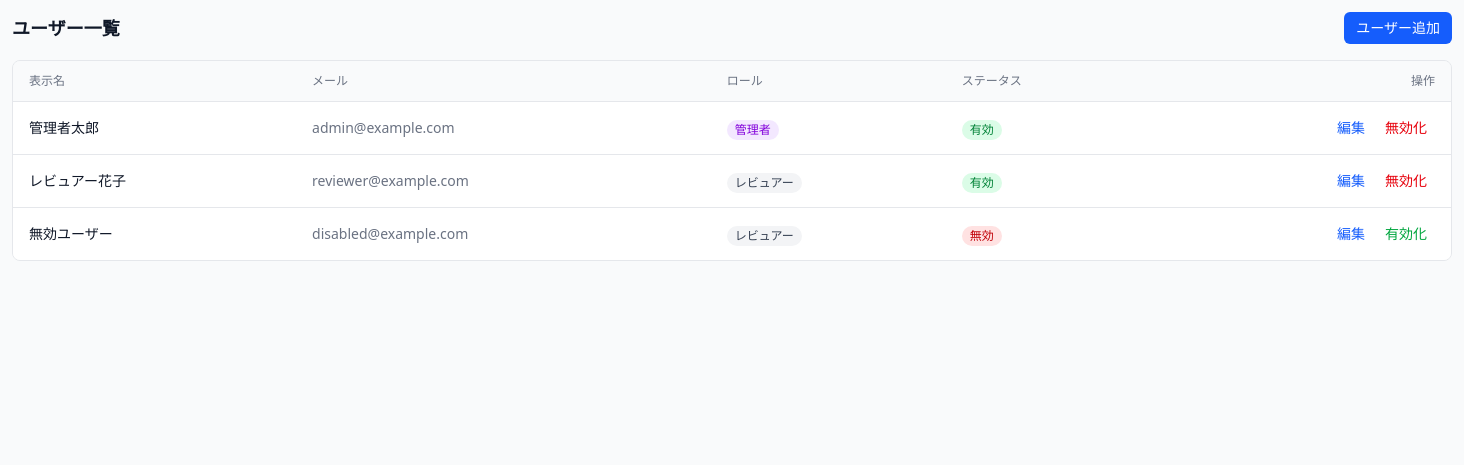
Test: UserManagement › shows an error message when edit fails
The image size is (1464, 465).
Click the button with aria-label "管理者太郎を編集".
click(1351, 128)  # box [1329,114,1373,142]
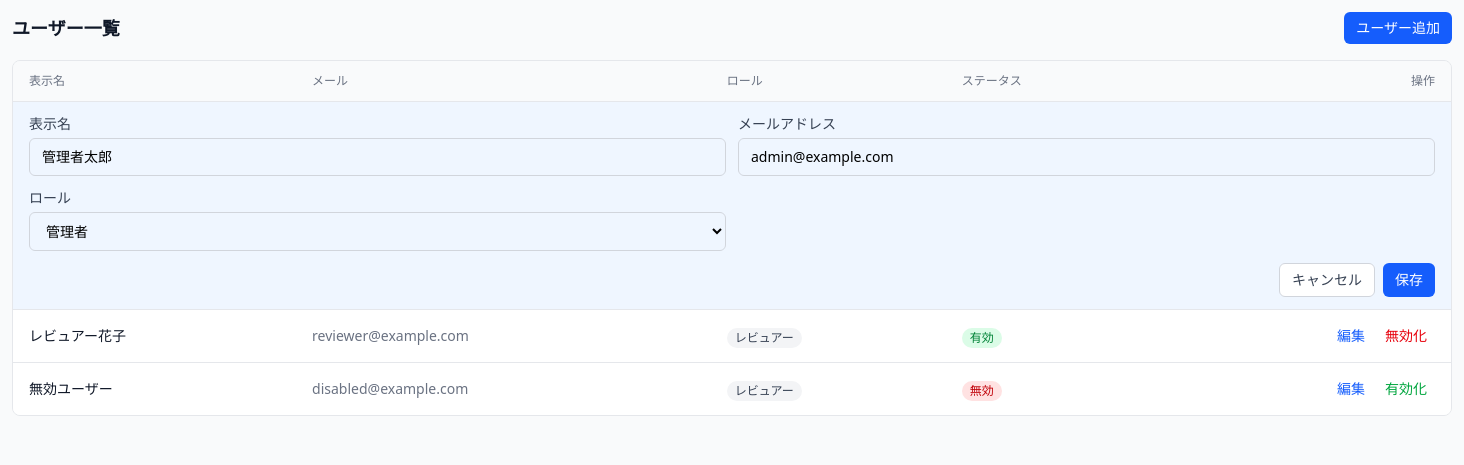
Replace the text in the field labelled "メールアドレス" with "reviewer@example.com" at (1086, 157), box [738,138,1435,176]
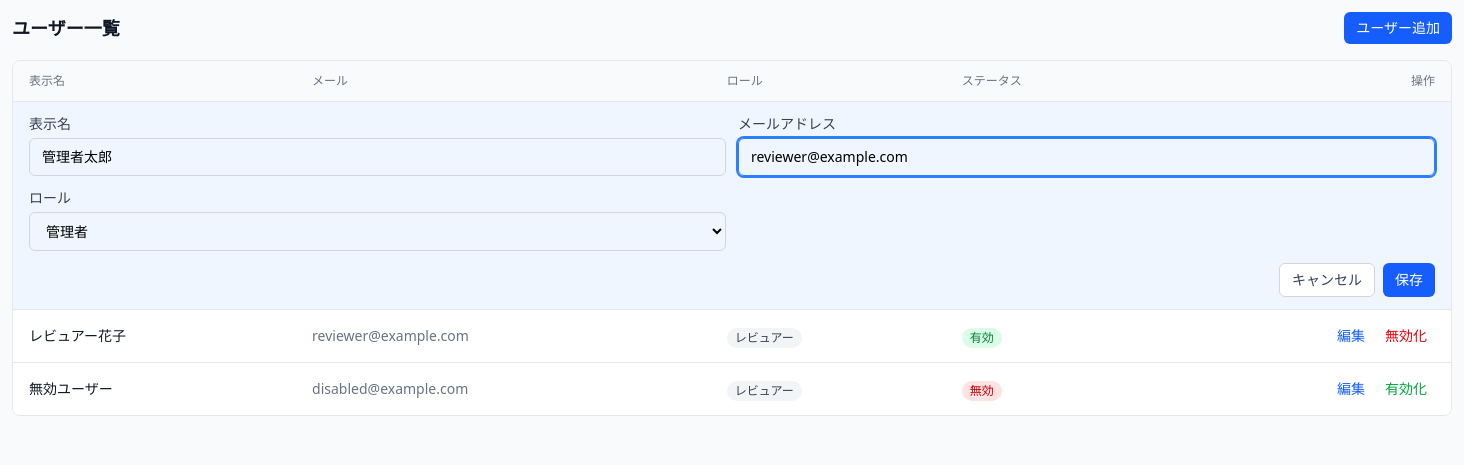
Click the button "保存".
click(1409, 280)  # box [1383,263,1435,297]
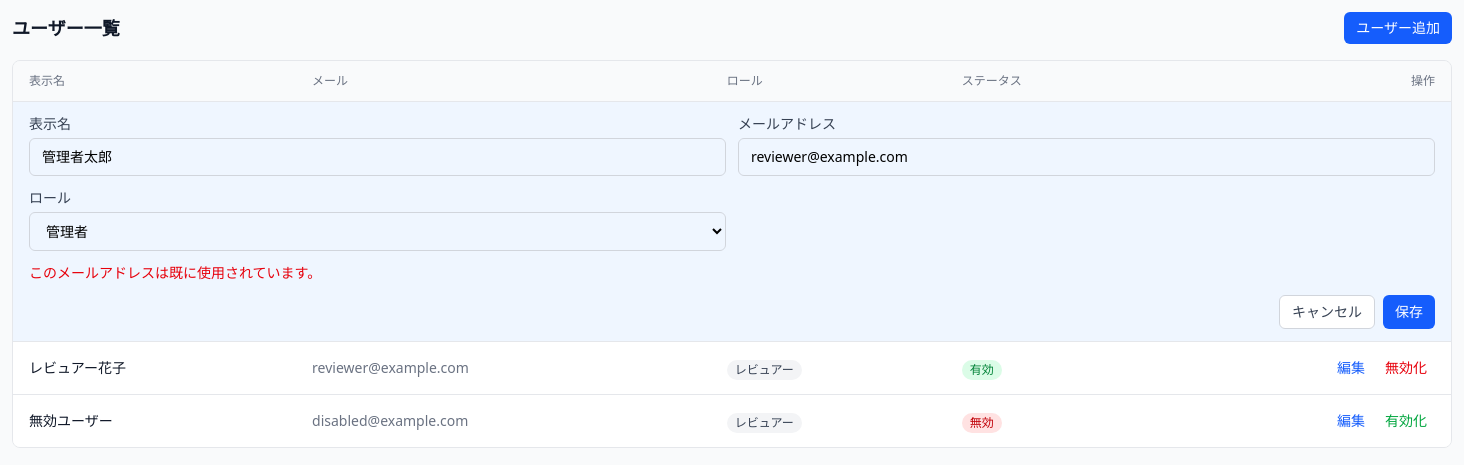
expect the message reads "このメールアドレスは既に使用されています。": met, box [29,263,321,282]
